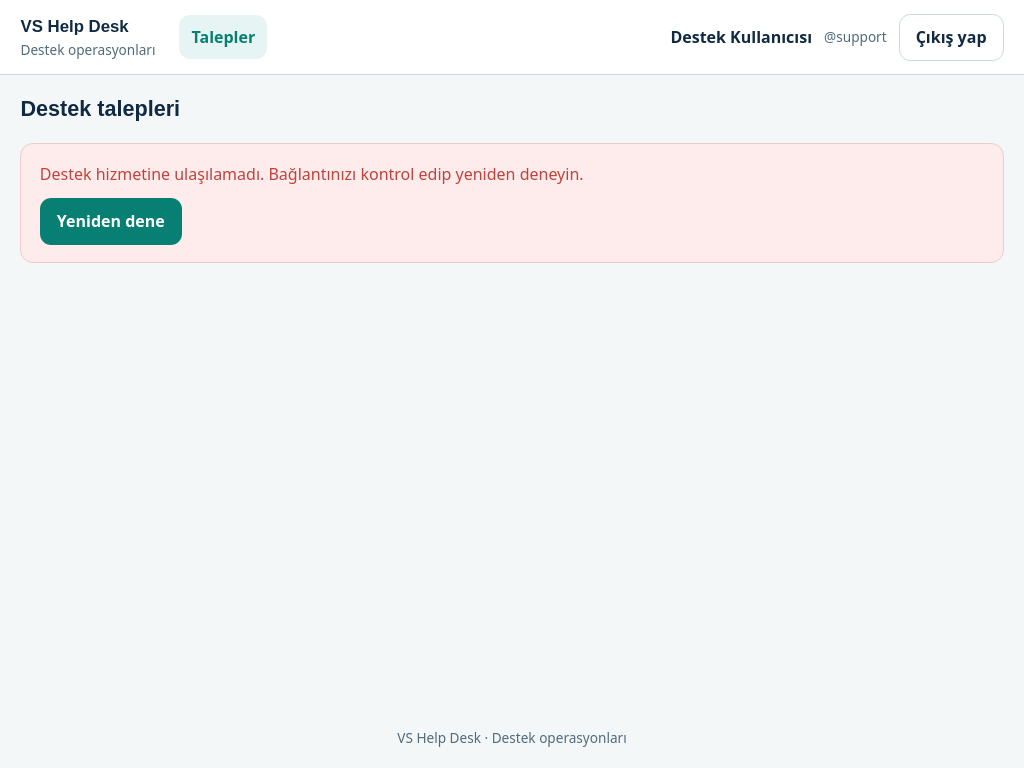
TicketListPage › offers an accessible retry for initial and refresh errors
Expected: the message shows "Destek hizmetine ulaşılamadı. Bağlantınızı kontrol edip yeniden deneyin.", x1=40 y1=163 x2=584 y2=185
Click the button "Yeniden dene": (111, 221) x1=40 y1=198 x2=182 y2=245
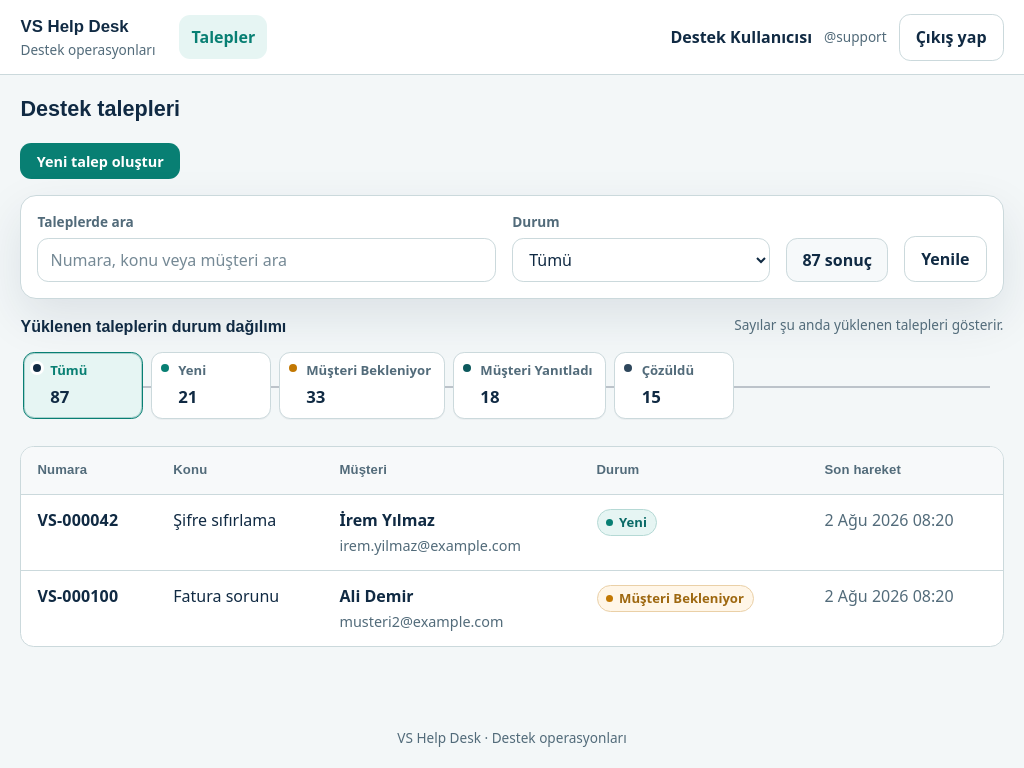
Result: the table is shown at x1=22 y1=447 x2=1003 y2=646
Click the button "Yenile": (945, 259) x1=904 y1=236 x2=987 y2=282
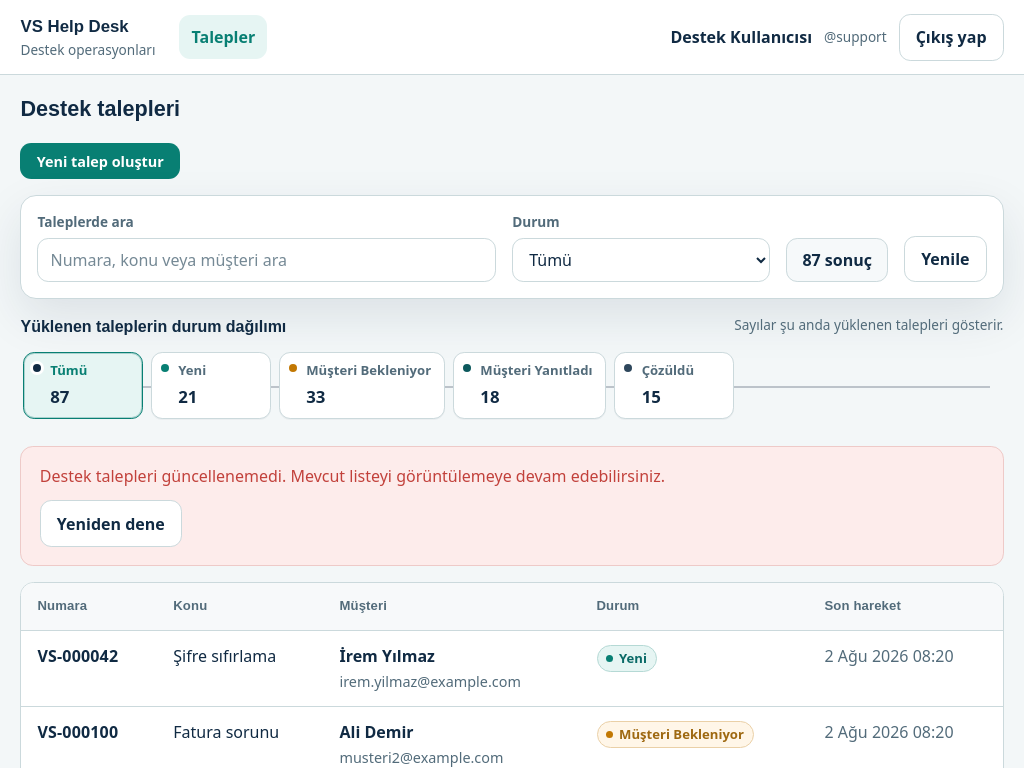
Result: the link "VS-000042" is shown at x1=38 y1=645 x2=118 y2=667
Result: the message shows "Destek talepleri güncellenemedi. Mevcut listeyi görüntülemeye devam edebilirsiniz." at x1=40 y1=465 x2=665 y2=487
Result: the button "Yeniden dene" is enabled at x1=40 y1=500 x2=182 y2=547
